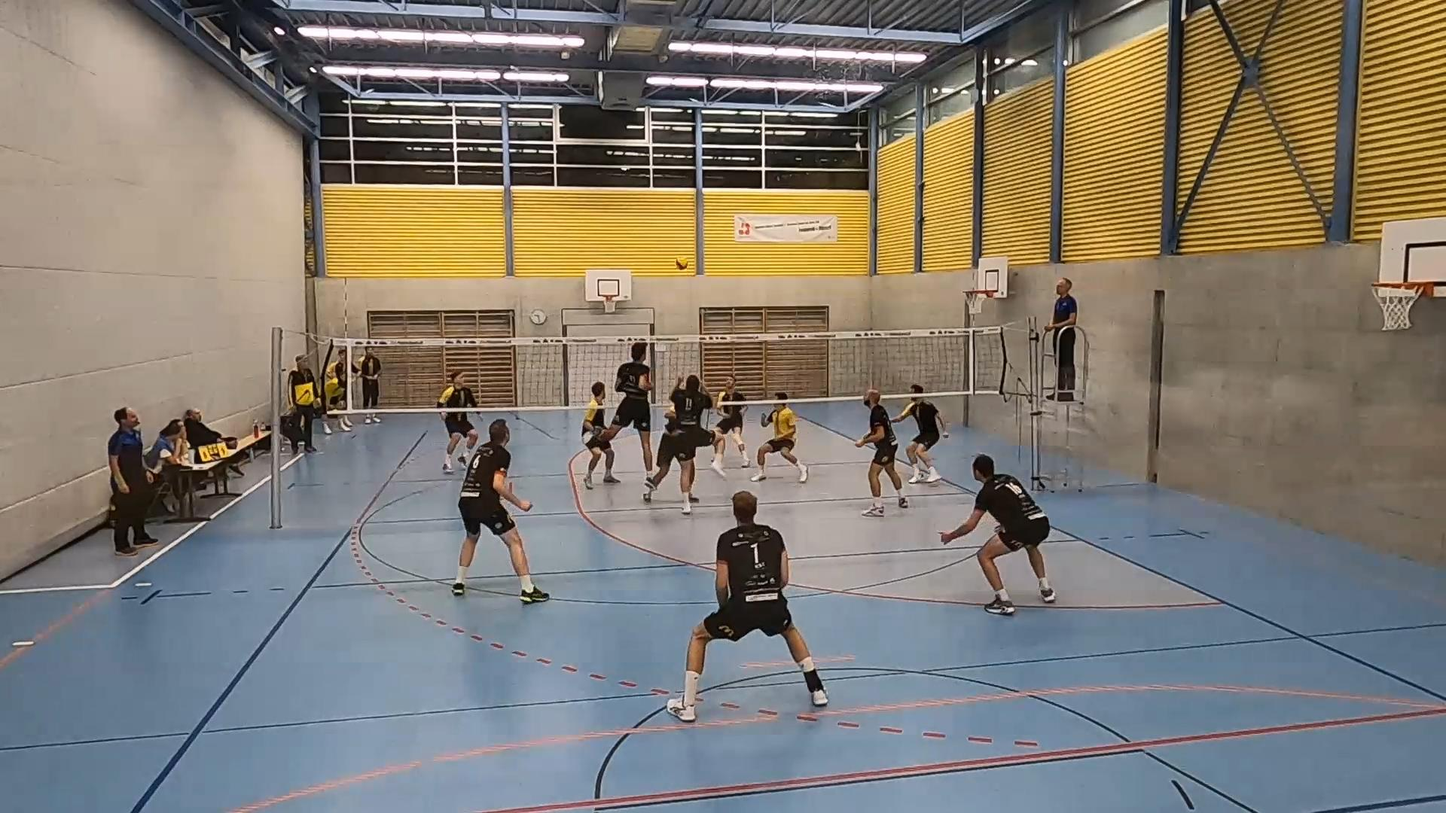Player: (667, 492, 828, 721), (940, 455, 1055, 615), (453, 419, 549, 603), (855, 389, 908, 516), (600, 342, 652, 470), (670, 375, 712, 514), (751, 392, 807, 483), (893, 397, 947, 483), (437, 370, 477, 473), (581, 382, 619, 489), (642, 406, 683, 501), (711, 376, 749, 474)
ball: (672, 253, 690, 275)
